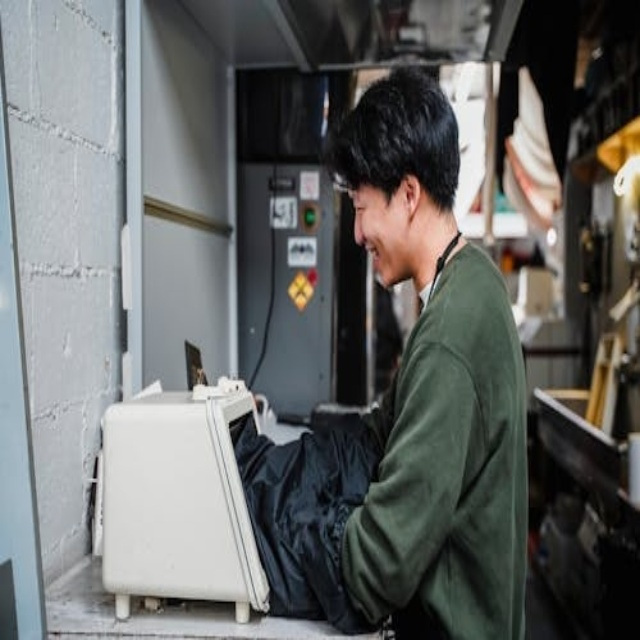Sin_gafas: (339, 181, 376, 223)
Sin_mascara: (357, 234, 401, 283)
